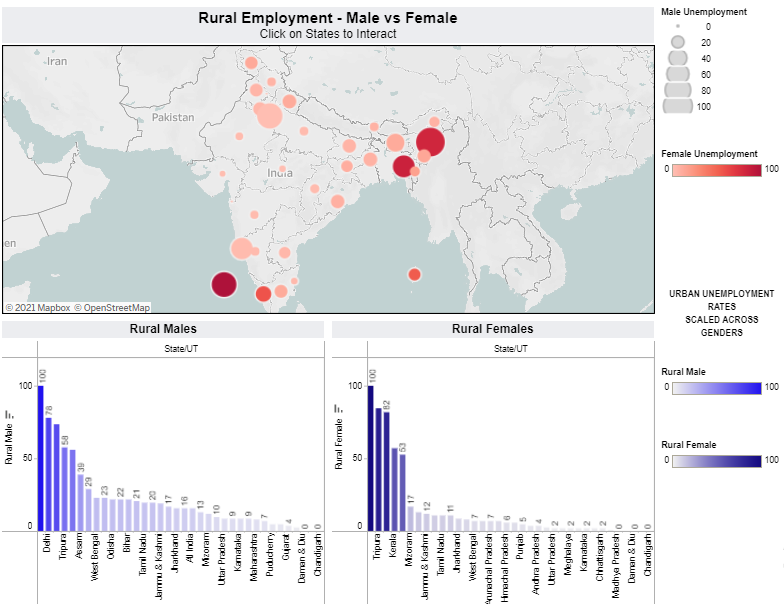

The page's visual inventory and layout, read from the dashboard file:
{"tool":"tableau","page":{"name":"Rural Final","canvas":[1000,800],"ordinal":1},"visuals":[{"type":"worksheet","box":[0,0,1000,800]},{"type":"worksheet","param":"horz","box":[8,8,984,784]},{"type":"worksheet","box":[8,8,824,784]},{"type":"worksheet","title":"Rural map","mark":"Automatic","box":[8,8,824,392]},{"type":"worksheet","box":[832,8,160,784]},{"type":"worksheet","param":"vert","box":[832,8,160,450]},{"type":"worksheet","title":"Rural map","mark":"Automatic","param":"[federated.0z87bac1dl9dl71e768y21gmz28m].[sum:Rural Male:qk]","box":[832,8,160,177]},{"type":"worksheet","title":"Rural map","mark":"Automatic","param":"[federated.0z87bac1dl9dl71e768y21gmz28m].[sum:Rural Female:qk]","box":[832,185,160,171]},{"type":"worksheet","box":[832,356,160,68]},{"type":"worksheet","title":"Usual Rural Males","mark":"Automatic","rows":["Rural Male"],"cols":["State/UT"],"box":[8,400,412,392]},{"type":"worksheet","title":"Rural Females","mark":"Automatic","rows":["Rural Female"],"cols":["State/UT"],"box":[420,400,412,392]},{"type":"worksheet","param":"vert","box":[832,458,160,334]},{"type":"worksheet","title":"Usual Rural Males","mark":"Automatic","rows":["Rural Male"],"cols":["State/UT"],"param":"[federated.0z87bac1dl9dl71e768y21gmz28m].[sum:Rural Male:qk]","box":[832,458,160,91]},{"type":"worksheet","title":"Rural Females","mark":"Automatic","rows":["Rural Female"],"cols":["State/UT"],"param":"[federated.0z87bac1dl9dl71e768y21gmz28m].[sum:Rural Female:qk]","box":[832,549,160,243]}]}

Visuals, with their boxes on the page's 1000x800 design canvas (x1, y1, x2, y2). These are canvas units, not pixel positions in the 784x604 screenshot, which may show the page scaled, cropped or inside an application window:
worksheet: (0, 0, 1000, 800)
worksheet: (8, 8, 992, 792)
worksheet: (8, 8, 832, 792)
"Rural map" worksheet: (8, 8, 832, 400)
worksheet: (832, 8, 992, 792)
worksheet: (832, 8, 992, 458)
"Rural map" worksheet: (832, 8, 992, 185)
"Rural map" worksheet: (832, 185, 992, 356)
worksheet: (832, 356, 992, 424)
"Usual Rural Males" worksheet: (8, 400, 420, 792)
"Rural Females" worksheet: (420, 400, 832, 792)
worksheet: (832, 458, 992, 792)
"Usual Rural Males" worksheet: (832, 458, 992, 549)
"Rural Females" worksheet: (832, 549, 992, 792)
